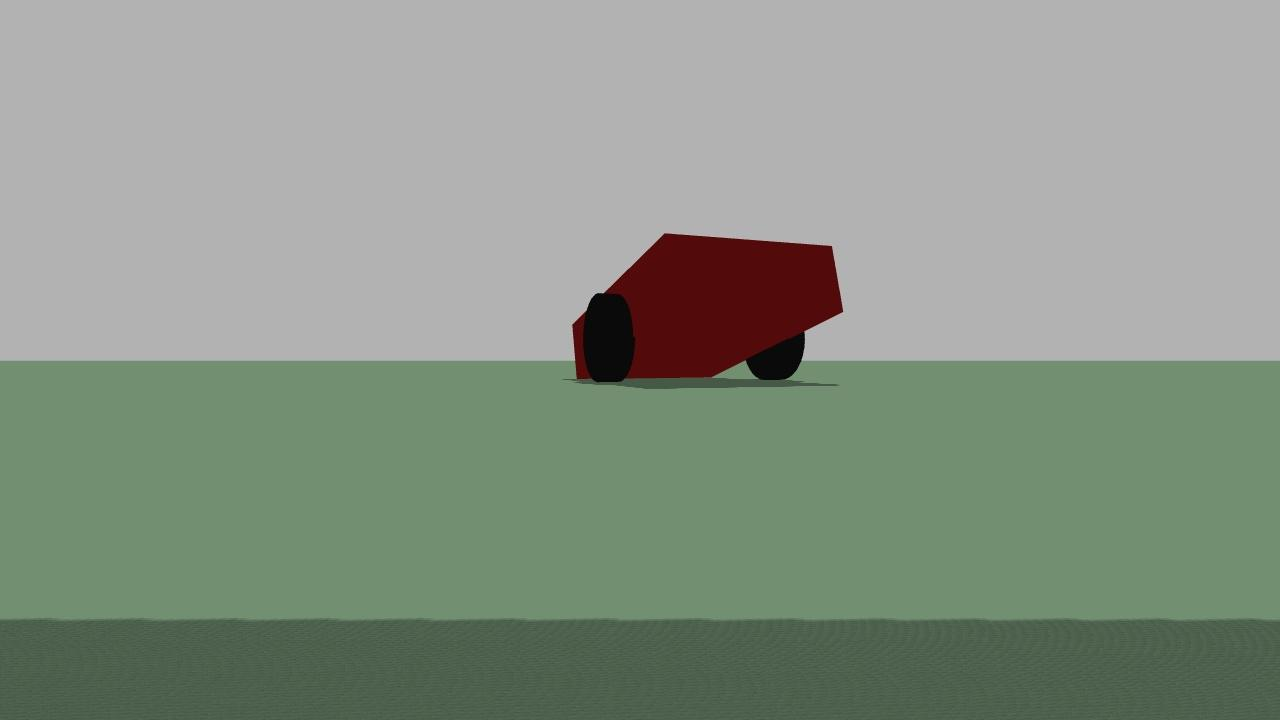ground_vehicle: (531, 207, 870, 407)
